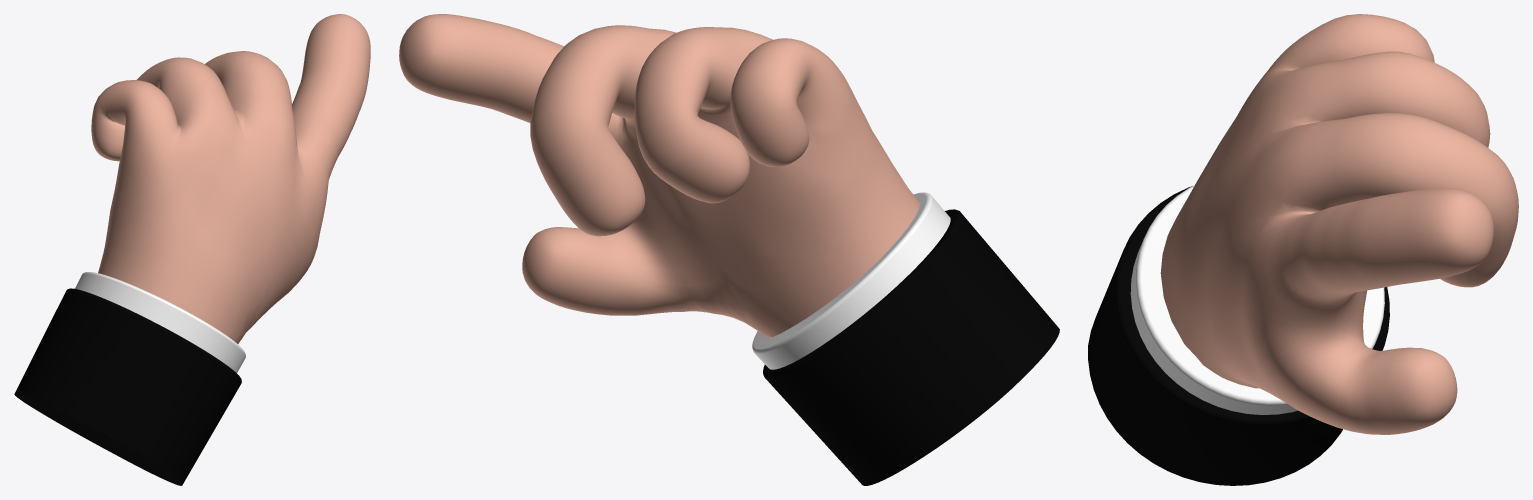
Rendered from emoji_jacket_pointing.glb.
3 renders of one model, left to right at view 1: azimuth 30°, elevation 25°; view 2: azimuth 150°, elevation 25°; view 3: azimuth 270°, elevation 25°, orthographic. The views are drawn at different scales.
Parts seen in each view (by area): view 1: hand, jacket; view 2: hand, jacket; view 3: hand, jacket.
Part boxes in pixels (left/top/right/bottom): hand: left=91, top=14, right=370, bottom=343; jacket: left=14, top=272, right=245, bottom=485; hand: left=399, top=14, right=919, bottom=337; jacket: left=752, top=192, right=1059, bottom=485; hand: left=1160, top=14, right=1518, bottom=434; jacket: left=1088, top=185, right=1389, bottom=485.
Size of the model in its own units: 4.61 by 3.75 by 3.
